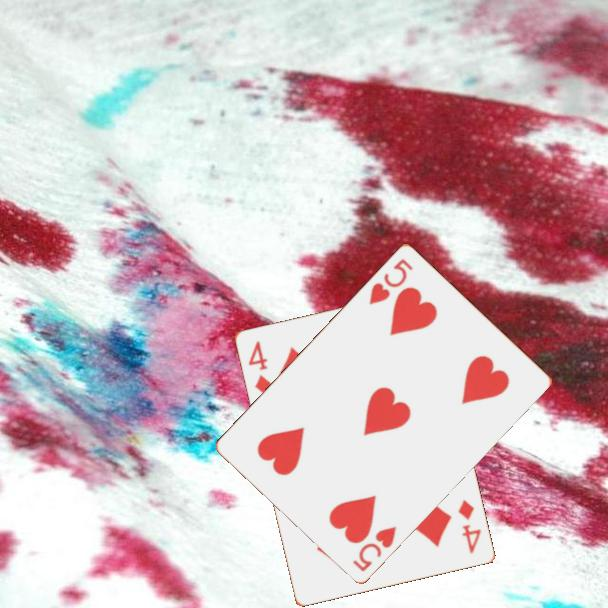d04: (244, 337, 274, 398), (454, 496, 483, 556)
h05: (365, 255, 416, 307), (349, 522, 399, 574)
